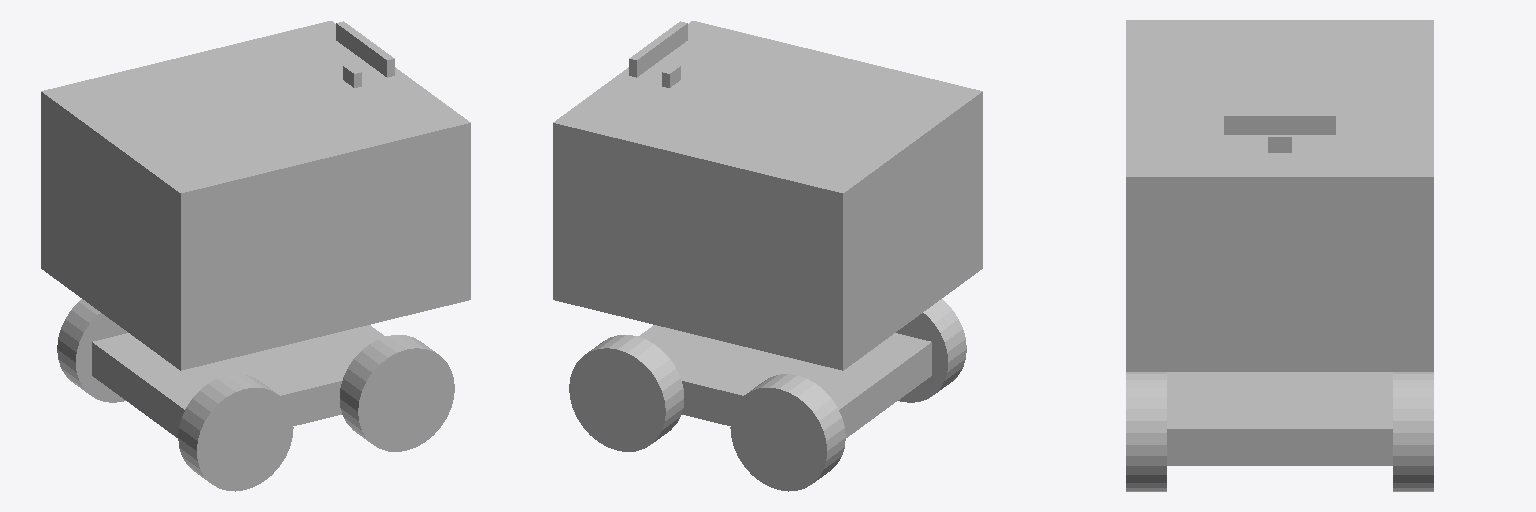
URDF robot description (adns_robot):
<robot name="adns_robot">
    <gazebo>
        <plugin name="differential_controller" filename="libadns_robot_sim_differential_controller.so">
            <namespace>/adns_robot</namespace>
            <topic>/adns_robot/drive_velocity</topic>
            <left_drive_joint>f_l_joint</left_drive_joint>
            <left_drive_joint>b_l_joint</left_drive_joint>
            <right_drive_joint>f_r_joint</right_drive_joint>
            <right_drive_joint>b_r_joint</right_drive_joint>
            <max_force>10.0</max_force>
        </plugin>
    </gazebo>

    <gazebo reference="camera_link">
        <sensor type="depth" name="main_camera">
            <update_rate>30</update_rate>
            <camera>
                <horizontal_fov>1.2043</horizontal_fov>
                <image>
                    <width>1920</width>
                    <height>1080</height>
                    <format>R8G8B8</format>
                </image>
                <clip>
                    <near>0.05</near>
                    <far>1000</far>
                </clip>
                <noise>
                    <type>gaussian</type>
                    <mean>0.0</mean>
                    <stddev>0.007</stddev>
                </noise>
            </camera>
            <plugin name="camera_plugin" filename="libgazebo_ros_openni_kinect.so">
                <baseline>0.2</baseline>
                <alwaysOn>true</alwaysOn>
                <updateRate>0.0</updateRate>
                <cameraName>/adns_robot/camera</cameraName>
                <imageTopicName>image_raw</imageTopicName>
                <cameraInfoTopicName>camera_info</cameraInfoTopicName>
                <depthImageTopicName>depth/image_raw</depthImageTopicName>
                <depthImageCameraInfoTopicName>depth/camera_info</depthImageCameraInfoTopicName>
                <pointCloudTopicName>depth/points</pointCloudTopicName>
                <frameName>camera_link</frameName>
                <pointCloudCutoff>0.2</pointCloudCutoff>
                <pointCloudCutoffMax>1.5</pointCloudCutoffMax>
                <distortionK1>0</distortionK1>
                <distortionK2>0</distortionK2>
                <distortionK3>0</distortionK3>
                <distortionT1>0</distortionT1>
                <distortionT2>0</distortionT2>
                <CxPrime>0</CxPrime>
                <Cx>0</Cx>
                <Cy>0</Cy>
                <focalLength>0</focalLength>
                <hackBaseline>0</hackBaseline>
            </plugin>
        </sensor>
    </gazebo>

    <material name="grey">
        <color rgba="0.8 0.8 0.8 1" />
    </material>

    <link name="base_link">
        <collision>
            <geometry>
                <box size="0.3556 0.2794 0.0508" />
            </geometry>
        </collision>

        <visual>
            <geometry>
                <box size="0.3556 0.2794 0.0508" />
            </geometry>
            <material name="grey" />
        </visual>

        <inertial>
            <mass value="10" />
            <inertia
                ixx="1.0" ixy="0.0" ixz="0.0"
                iyy="1.0" iyz="0.0"
                izz="1.0" />
        </inertial>
    </link>

    <link name="container">
        <collision>
            <geometry>
                <box size="0.4572 0.381 0.2667" />
            </geometry>
        </collision>

        <visual>
            <geometry>
                <box size="0.4572 0.381 0.2667" />
            </geometry>
            <material name="grey" />
        </visual>

        <inertial>
            <mass value="30" />
            <inertia
                ixx="1.0" ixy="0.0" ixz="0.0"
                iyy="1.0" iyz="0.0"
                izz="1.0" />
        </inertial>
    </link>

    <link name="f_l_wheel">
        <collision>
            <origin xyz="0 0 0" rpy="1.5708 0 0" />
            <geometry>
                <cylinder length="0.0508" radius="0.0762" />
            </geometry>
        </collision>

        <visual>                        
            <origin xyz="0 0 0" rpy="1.5708 0 0" />
            <geometry>
                <cylinder length="0.0508" radius="0.0762" />
            </geometry>
            <material name="grey" />
        </visual>

        <inertial>
            <mass value="0.5" />
            <inertia
                ixx="1.0" ixy="0.0" ixz="0.0"
                iyy="1.0" iyz="0.0"
                izz="1.0" />
        </inertial>
    </link>

    <link name="f_r_wheel">
        <collision>
            <origin xyz="0 0 0" rpy="-1.5708 0 0" />
            <geometry>
                <cylinder length="0.0508" radius="0.0762" />
            </geometry>
        </collision>

        <visual>                        
            <origin xyz="0 0 0" rpy="1.5708 0 0" />
            <geometry>
                <cylinder length="0.0508" radius="0.0762" />
            </geometry>
            <material name="grey" />
        </visual>

        <inertial>
            <mass value="0.5" />
            <inertia
                ixx="1.0" ixy="0.0" ixz="0.0"
                iyy="1.0" iyz="0.0"
                izz="1.0" />
        </inertial>
    </link>

    <link name="b_l_wheel">
        <collision>
            <origin xyz="0 0 0" rpy="1.5708 0 0" />
            <geometry>
                <cylinder length="0.0508" radius="0.0762" />
            </geometry>
        </collision>

        <visual>                        
            <origin xyz="0 0 0" rpy="1.5708 0 0" />
            <geometry>
                <cylinder length="0.0508" radius="0.0762" />
            </geometry>
            <material name="grey" />
        </visual>

        <inertial>
            <mass value="0.5" />
            <inertia
                ixx="1.0" ixy="0.0" ixz="0.0"
                iyy="1.0" iyz="0.0"
                izz="1.0" />
        </inertial>
    </link>

    <link name="b_r_wheel">
        <collision>
            <origin xyz="0 0 0" rpy="-1.5708 0 0" />
            <geometry>
                <cylinder length="0.0508" radius="0.0762" />
            </geometry>
        </collision>

        <visual>                        
            <origin xyz="0 0 0" rpy="-1.5708 0 0" />
            <geometry>
                <cylinder length="0.0508" radius="0.0762" />
            </geometry>
            <material name="grey" />
        </visual>

        <inertial>
            <mass value="0.5" />
            <inertia
                ixx="1.0" ixy="0.0" ixz="0.0"
                iyy="1.0" iyz="0.0"
                izz="1.0" />
        </inertial>
    </link>

    <link name="tilt_bracket">
        <collision>
            <geometry>
                <box size="0.03 0.03 0.03" />
            </geometry>
        </collision>

        <visual>
            <geometry>
                <box size="0.012 0.03 0.03" />
            </geometry>
            <material name="grey" />
        </visual>

        <inertial>
            <mass value="0.5" />
            <inertia
                ixx="1.0" ixy="0.0" ixz="0.0"
                iyy="1.0" iyz="0.0"
                izz="1.0" />
        </inertial>
    </link>

    <link name="camera_link">
        <collision>
            <origin xyz="0.02 0 0" />
            <geometry>
                <box size="0.012 0.139 0.026" />
            </geometry>
        </collision>

        <visual>
            <origin xyz="0.02 0 0" />
            <geometry>
                <box size="0.012 0.139 0.026" />
            </geometry>
            <material name="grey" />
        </visual>

        <inertial>
            <origin xyz="0.02 0 0" />
            <mass value="0.5" />
            <inertia
                ixx="1.0" ixy="0.0" ixz="0.0"
                iyy="1.0" iyz="0.0"
                izz="1.0" />
        </inertial>
    </link>

    <joint name="standoffs" type="fixed">
        <parent link="base_link" />
        <child link="container" />
        <axis xyz="0 1 0" />
        <origin xyz="0 0 0.26035" />
    </joint>

    <joint name="f_l_joint" type="continuous">
        <parent link="base_link" />
        <child link="f_l_wheel" />
        <axis xyz="0 1 0" />
        <origin xyz="0.127 0.1651 0" />
    </joint>

    <joint name="f_r_joint" type="continuous">
        <parent link="base_link" />
        <child link="f_r_wheel" />
        <axis xyz="0 1 0" />
        <origin xyz="0.127 -0.1651 0" />
    </joint>

    <joint name="b_l_joint" type="continuous">
        <parent link="base_link" />
        <child link="b_l_wheel" />
        <axis xyz="0 1 0" />
        <origin xyz="-0.127 0.1651 0" />
    </joint>

    <joint name="b_r_joint" type="continuous">
        <parent link="base_link" />
        <child link="b_r_wheel" />
        <axis xyz="0 1 0" />
        <origin xyz="-0.127 -0.1651 0" />
    </joint>

    <joint name="pan_servo_joint" type="fixed">
        <parent link="container" />
        <child link="tilt_bracket" />
        <axis xyz="0 0 1" />
        <origin xyz="0.1524 0 0.1397" />
        <limit lower="-1.28" upper="1.28" effort="0" velocity="0" />
    </joint>

    <joint name="tilt_servo_joint" type="fixed">
        <parent link="tilt_bracket" />
        <child link="camera_link" />
        <axis xyz="0 1 0" />
        <origin xyz="0 0 0.04" />
        <limit lower="-2.56" upper="0" effort="0" velocity="0" />
    </joint>

</robot>

--- Render facts (derived) ---
3 views of the same robot in one strip: view 1: azimuth 30°, elevation 25°; view 2: azimuth 150°, elevation 25°; view 3: azimuth 270°, elevation 25° (orthographic).
Model adns_robot with 8 links and 7 joints (4 continuous, 3 fixed), rooted at base_link, posed every joint at zero.
Links seen in each view (by area): view 1: container, base_link, b_r_wheel, f_r_wheel, b_l_wheel, camera_link; view 2: container, base_link, b_l_wheel, f_l_wheel, b_r_wheel, camera_link; view 3: container, base_link, f_l_wheel, f_r_wheel, camera_link.
Boxes of the visible links, x1,y1,x2,y2 form: container: (41,21,470,370); base_link: (92,325,385,437); b_r_wheel: (178,374,293,491); f_r_wheel: (340,335,454,451); b_l_wheel: (57,299,127,402); camera_link: (336,21,394,77); container: (553,21,982,370); base_link: (638,325,931,437); b_l_wheel: (730,374,845,491); f_l_wheel: (569,335,683,451); b_r_wheel: (896,299,966,402); camera_link: (629,21,687,77); container: (1126,20,1433,371); base_link: (1167,372,1392,465); f_l_wheel: (1393,372,1433,491); f_r_wheel: (1126,372,1166,491); camera_link: (1224,112,1335,134).
Size in the robot's own frame: 0.4572 by 0.381 by 0.5293 metres.
Geometry: primitives only (box / cylinder / sphere), no mesh files.